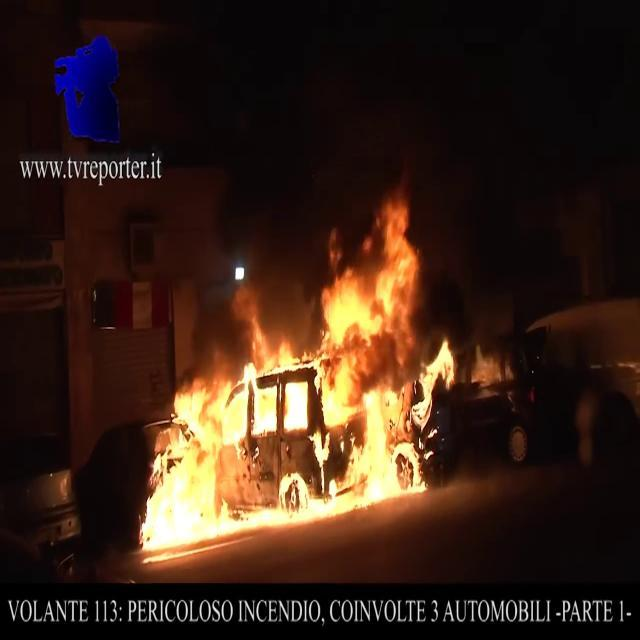Fire: (134, 196, 460, 544)
